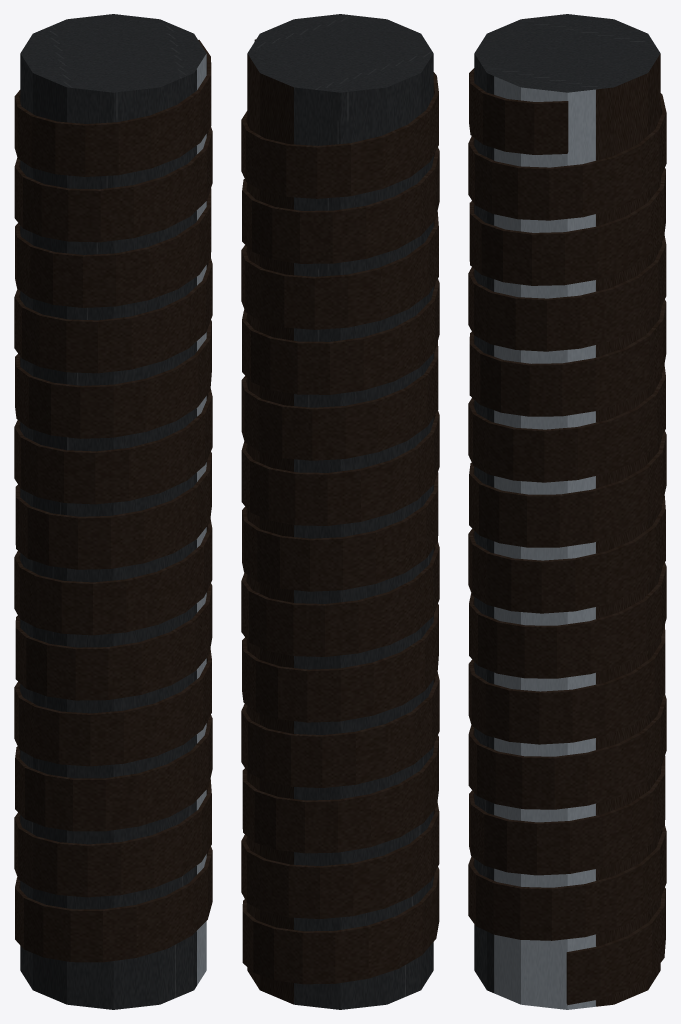
File: dragonslayer_grip.fbx
The picture shows the model from 3 angles, left to right: view 1: azimuth 30°, elevation 25°; view 2: azimuth 150°, elevation 25°; view 3: azimuth 270°, elevation 25°; orthographic projection.
Parts seen in each view (by area): view 1: dragonslayer_grip; view 2: dragonslayer_grip; view 3: dragonslayer_grip.
Boxes of the visible parts, bbox=[...] form: dragonslayer_grip: bbox=[14, 14, 212, 1009]; dragonslayer_grip: bbox=[241, 14, 439, 1009]; dragonslayer_grip: bbox=[468, 14, 666, 1009].
Size of what is drawn, in the model's own units: 0.049 by 0.049 by 0.25.
1 material, 1 textured.
